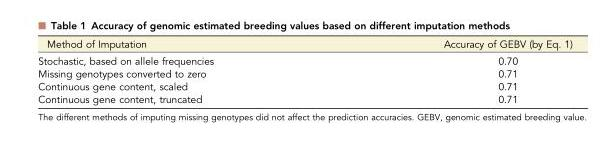table: (37, 37, 571, 104)
table column: (37, 37, 327, 104), (327, 37, 571, 104)
table column header: (37, 37, 571, 51)
table row: (37, 51, 571, 66), (37, 37, 571, 51), (37, 66, 571, 79), (37, 79, 571, 92), (37, 92, 571, 104)
